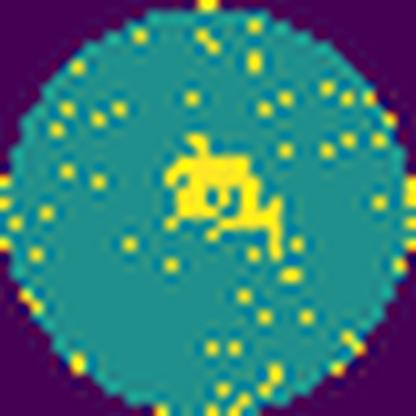Center: (164, 135, 285, 258)
